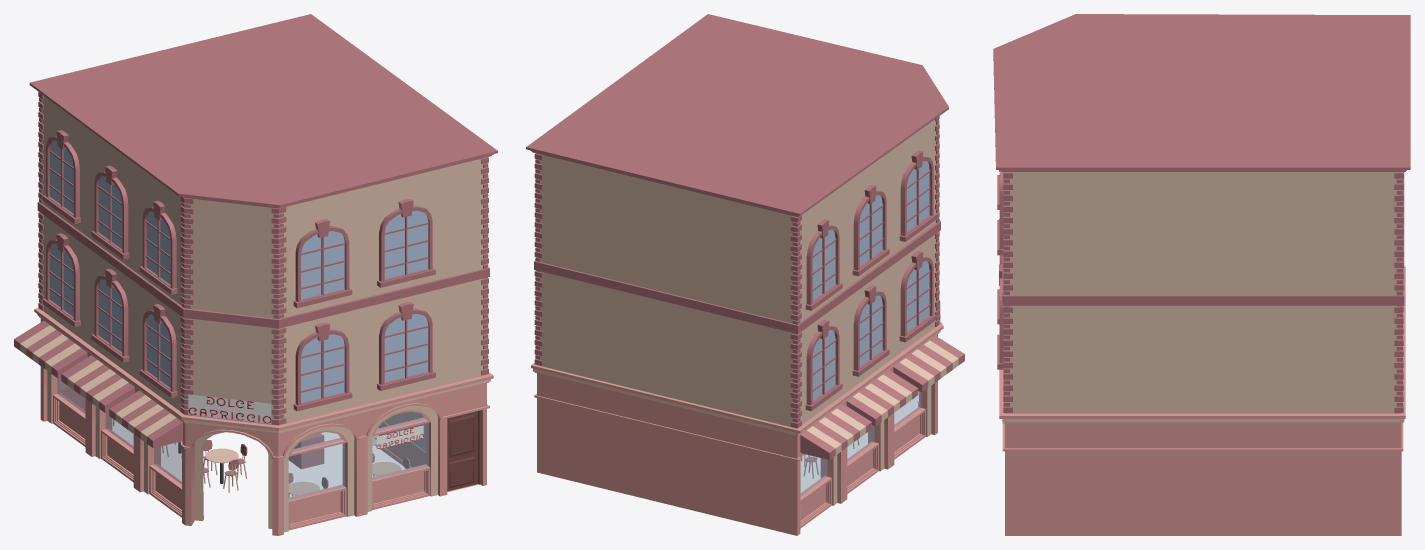
Rendered from Panaderia_001.fbx.
3 renders of one model, left to right at view 1: azimuth 30°, elevation 25°; view 2: azimuth 150°, elevation 25°; view 3: azimuth 270°, elevation 25°, orthographic. The views are drawn at different scales.
Parts seen in each view (by area): view 1: Cube, Cube.024, Cube.010, Cube.008, Cube.007, Cube.009, Cube.004, Cube.001, Cube.005, Cube.002, Cube.003, Cube.006 (+7 smaller); view 2: Cube, Cube.006, Cube.002, Cube.004, Cube.001, Cube.005, Cube.003, Plane.005, Plane.006, Plane, Cube.023; view 3: Cube, Cube.007, Cube.009.
Part boxes in pixels (x1,y1,x2,y2): Cube: (29,14,497,535); Cube.024: (289,412,428,500); Cube.010: (293,219,352,308); Cube.008: (293,322,352,411); Cube.007: (377,302,435,390); Cube.009: (377,199,435,287); Cube.004: (139,200,177,294); Cube.001: (139,304,177,397); Cube.005: (91,165,129,259); Cube.002: (91,268,129,362); Cube.003: (43,233,80,326); Cube.006: (43,130,80,223); Cube: (526,14,948,535); Cube.006: (805,219,842,310); Cube.002: (852,285,889,376); Cube.004: (899,150,936,241); Cube.001: (899,251,936,342); Cube.005: (852,185,889,276); Cube.003: (805,319,842,411); Plane.005: (800,404,871,459); Plane.006: (893,336,964,391); Plane: (846,370,918,426); Cube.023: (801,391,921,495); Cube: (993,14,1410,535); Cube.007: (997,264,1003,369); Cube.009: (997,170,1003,255).
Bounding box in the file's own units: 561 × 594 × 600.
14 materials, 1 textured.
